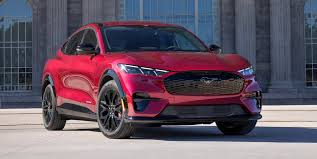car: (41, 21, 266, 136)
